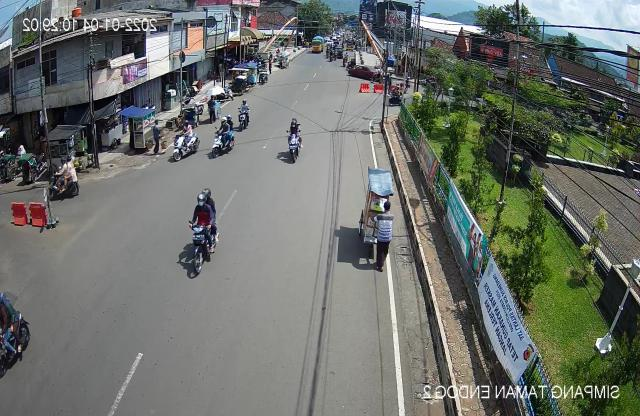Motor: (182, 188, 218, 284), (0, 291, 34, 381), (42, 154, 79, 202), (167, 120, 201, 166), (209, 114, 237, 159), (280, 116, 303, 165), (234, 99, 250, 133)
